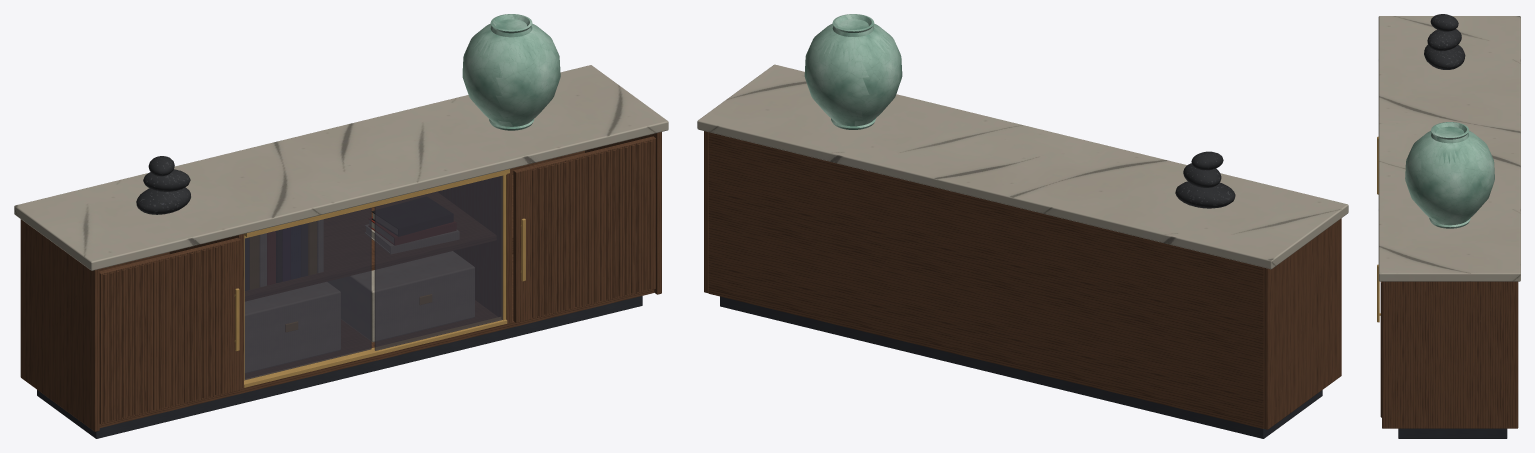
Rendered from credenza.glb.
3 views of the same model, side by side, from view 1: azimuth 30°, elevation 25°; view 2: azimuth 150°, elevation 25°; view 3: azimuth 270°, elevation 25° (orthographic). The views are drawn at different scales.
Visible parts, largest first — view 1: part_top_LOD0, part_carcass_LOD0, part_door_l_LOD0, part_door_r_LOD0, part_slide_l_LOD0, part_slide_r_LOD0, part_boxes_LOD0, part_jar_LOD0, part_books_LOD0, part_stones_LOD0; view 2: part_carcass_LOD0, part_top_LOD0, part_jar_LOD0, part_stones_LOD0; view 3: part_top_LOD0, part_carcass_LOD0, part_jar_LOD0, part_stones_LOD0, part_door_l_LOD0.
Boxes of the visible parts, box(x1,y1,x2,y2) form: part_top_LOD0: box(14, 65, 668, 270); part_carcass_LOD0: box(20, 132, 661, 438); part_door_l_LOD0: box(513, 136, 655, 322); part_door_r_LOD0: box(99, 237, 240, 424); part_slide_l_LOD0: box(374, 175, 506, 350); part_slide_r_LOD0: box(244, 207, 371, 380); part_boxes_LOD0: box(245, 251, 474, 372); part_jar_LOD0: box(462, 14, 560, 130); part_books_LOD0: box(245, 197, 458, 290); part_stones_LOD0: box(136, 156, 190, 214); part_carcass_LOD0: box(704, 131, 1341, 438); part_top_LOD0: box(697, 64, 1348, 269); part_jar_LOD0: box(804, 14, 902, 129); part_stones_LOD0: box(1175, 151, 1235, 208); part_top_LOD0: box(1378, 16, 1520, 281); part_carcass_LOD0: box(1382, 281, 1518, 438); part_jar_LOD0: box(1405, 122, 1494, 228); part_stones_LOD0: box(1424, 14, 1465, 69); part_door_l_LOD0: box(1377, 264, 1381, 417).
Size of what is drawn, in the model's own units: 2.24 by 1.07 by 0.528.
21 materials, 18 textured.
